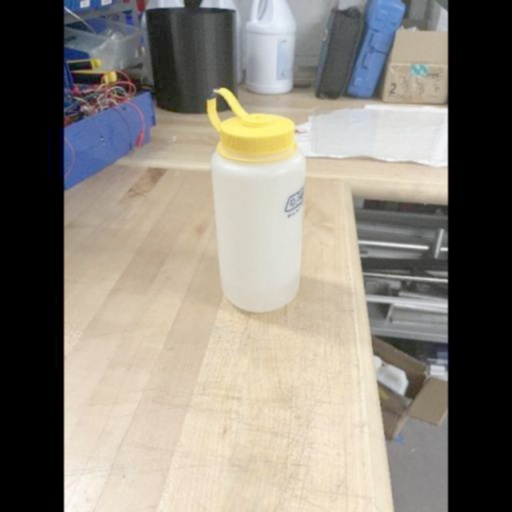bottle: (206, 88, 306, 314)
